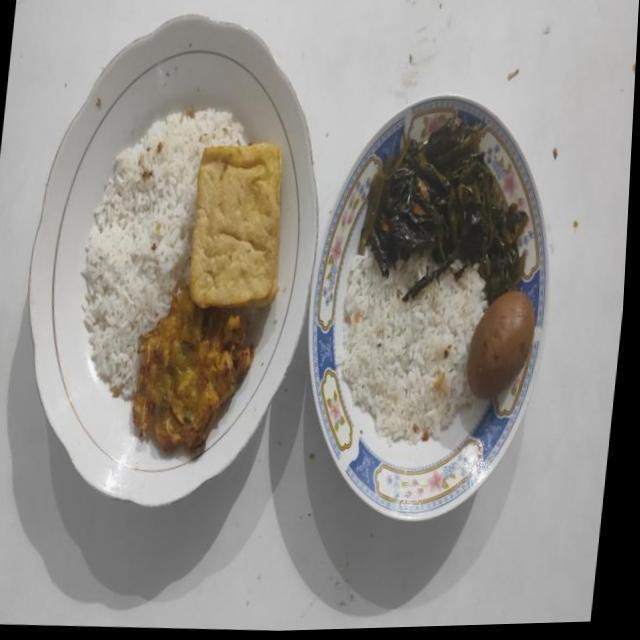nasi_putih: (82, 109, 244, 398), (337, 253, 486, 444)
tahu_goreng: (190, 143, 282, 308)
tumis_kangkung: (359, 114, 528, 306)
